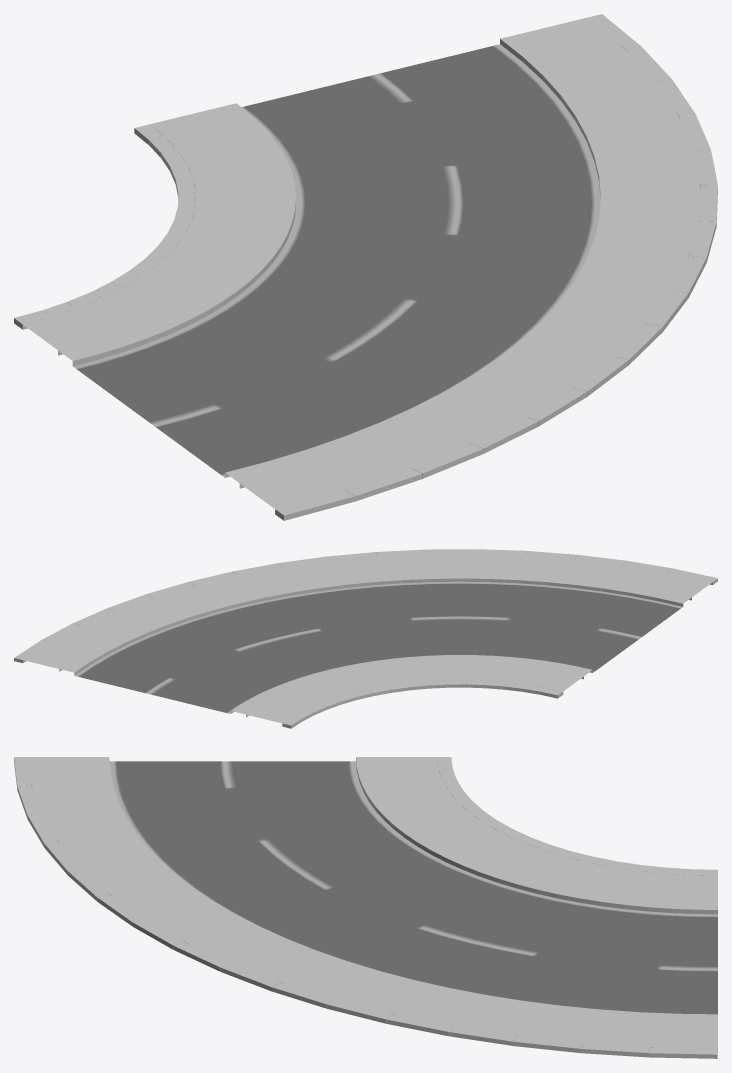
The model's file is Bridge.2.Road.C.fbx.
3 renders of one model, top to bottom at view 1: azimuth 30°, elevation 25°; view 2: azimuth 150°, elevation 25°; view 3: azimuth 270°, elevation 25°, orthographic. The views are drawn at different scales.
Parts seen in each view (by area): view 1: Bridge.2.Road.C; view 2: Bridge.2.Road.C; view 3: Bridge.2.Road.C.
Boxes of the visible parts, left/top/right/bottom form: Bridge.2.Road.C: left=14, top=14, right=717, bottom=520; Bridge.2.Road.C: left=14, top=549, right=717, bottom=728; Bridge.2.Road.C: left=14, top=757, right=717, bottom=1058.
Bounding box in the file's own units: 1478 × 10 × 1478.
